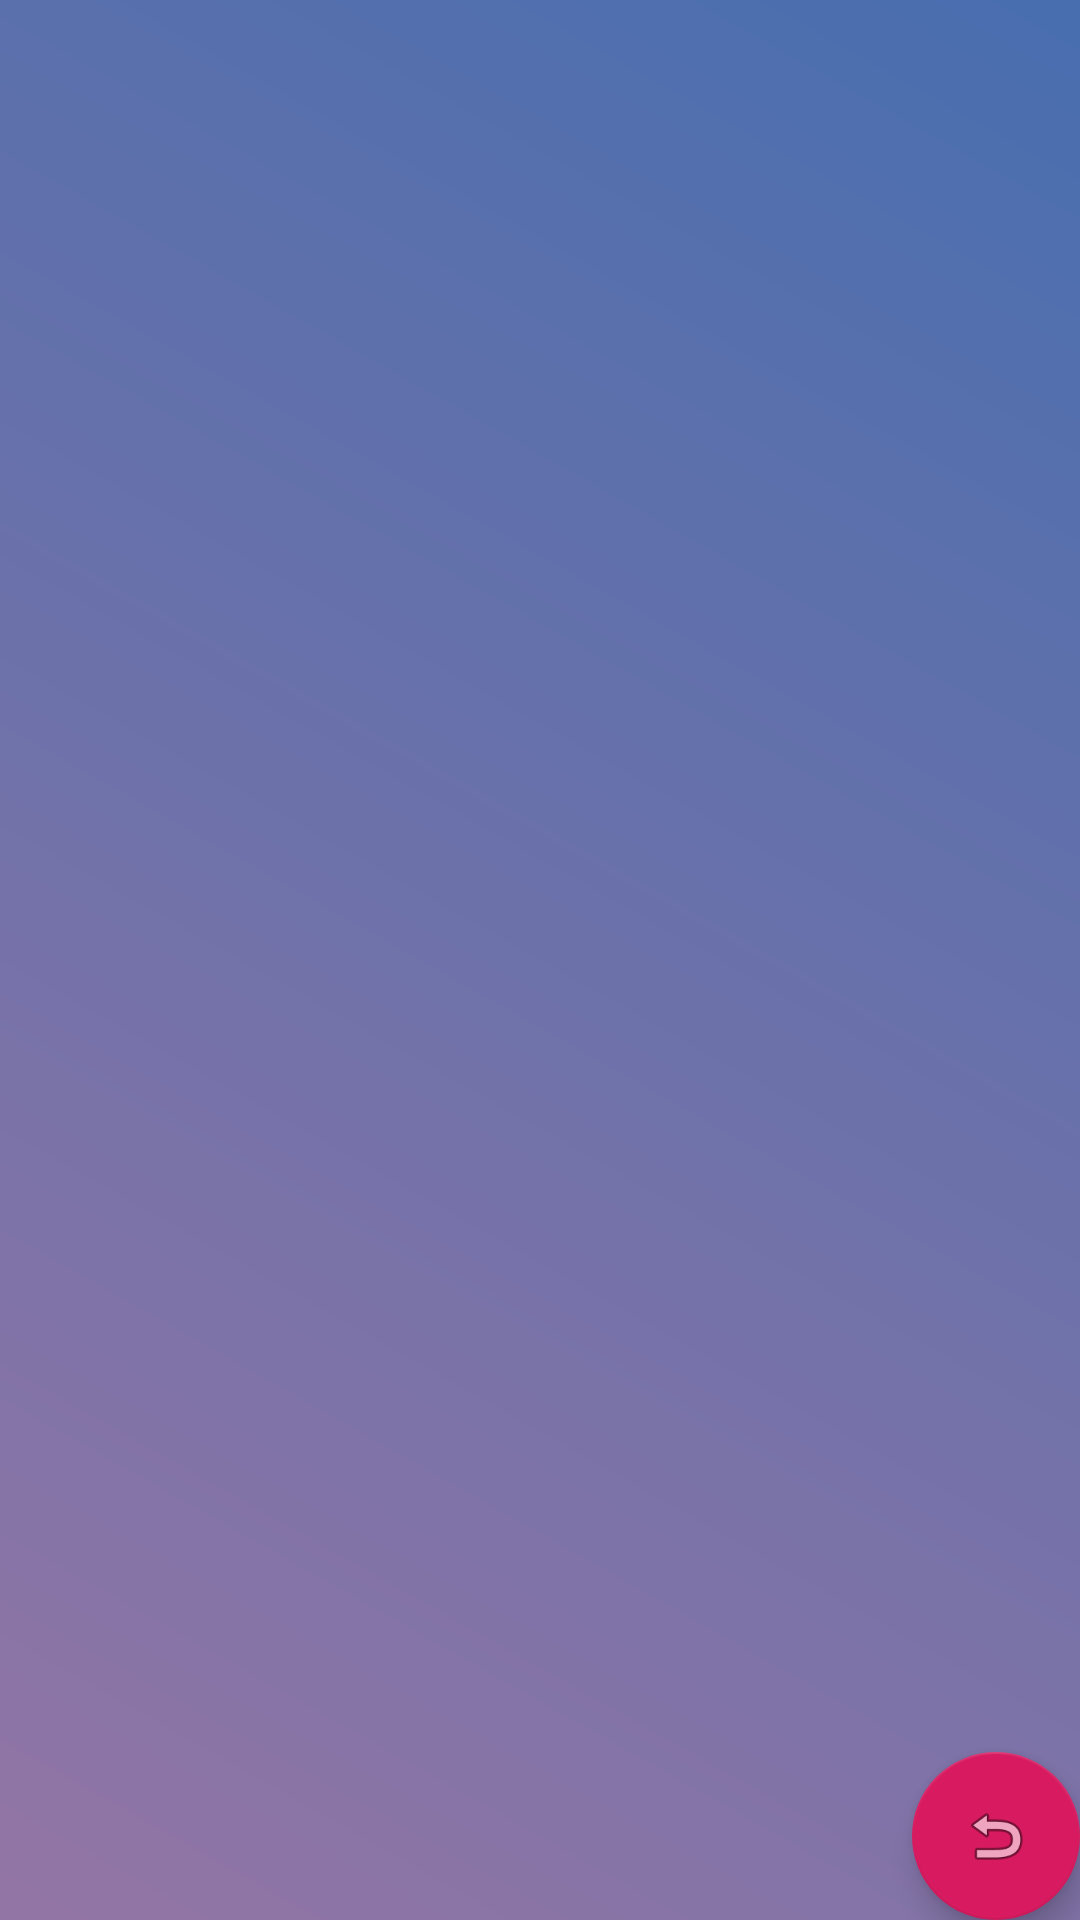

Where icons sit on this 1080*1920 app screen, as Rect(x1, y1, x2, y2):
revert: Rect(912, 1752, 1080, 1920)
